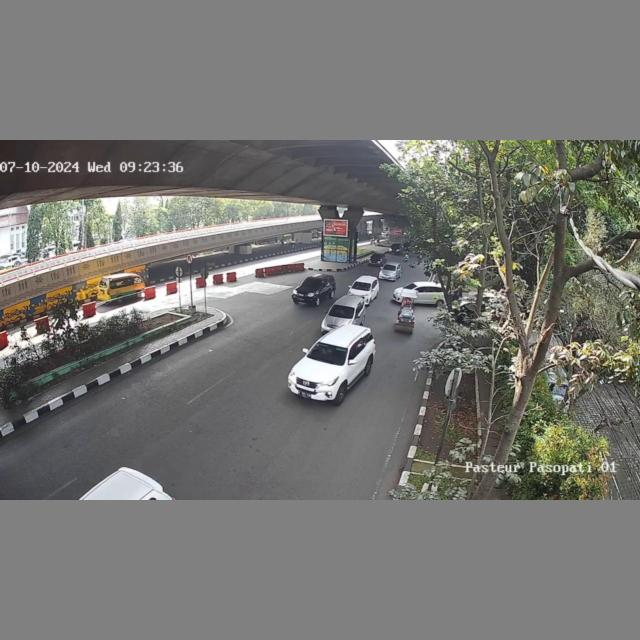windshield: (308, 340, 349, 364), (330, 304, 355, 318), (300, 278, 320, 288)
